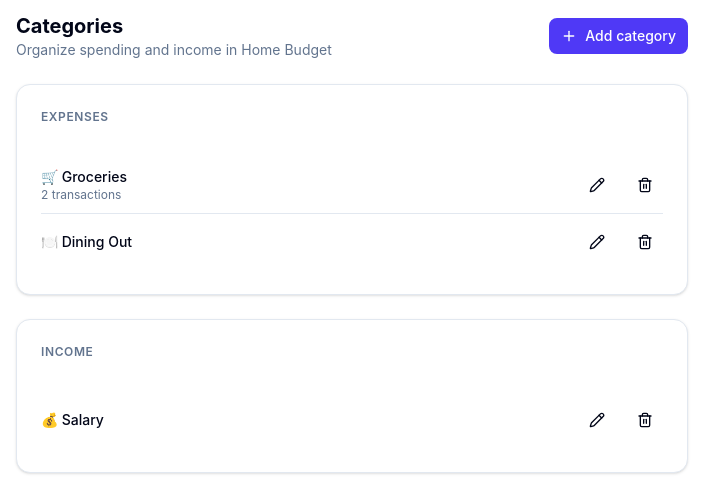
Test: CategoriesPage › uses Cancel to back out of a delete confirmation
Click the button named "delete Groceries" at (645, 185), box [627,167,663,203]
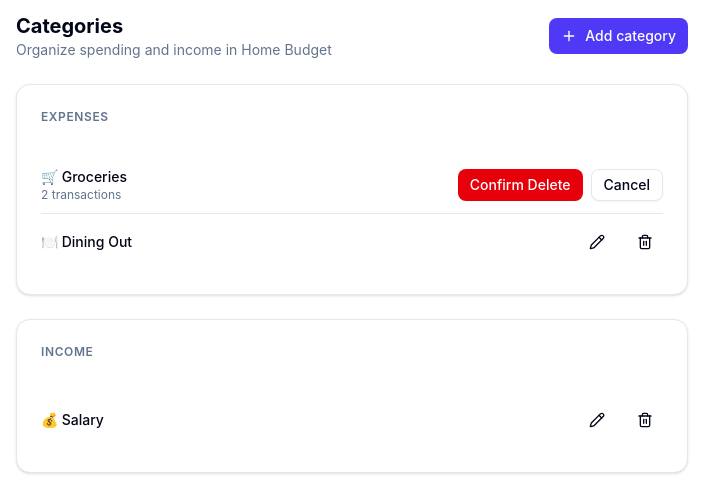
Expected: the button "Confirm Delete" is shown, [458,169,582,201]
Click the button "Cancel" at (627, 185), box [590,169,663,201]
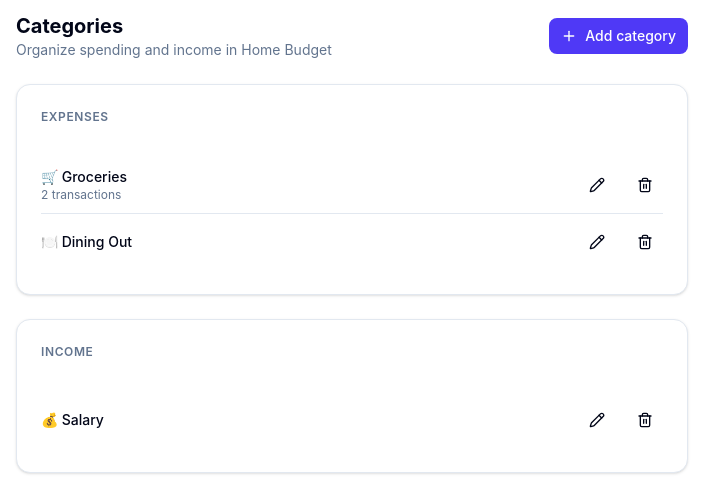
Expected: the button "Confirm Delete" is gone
